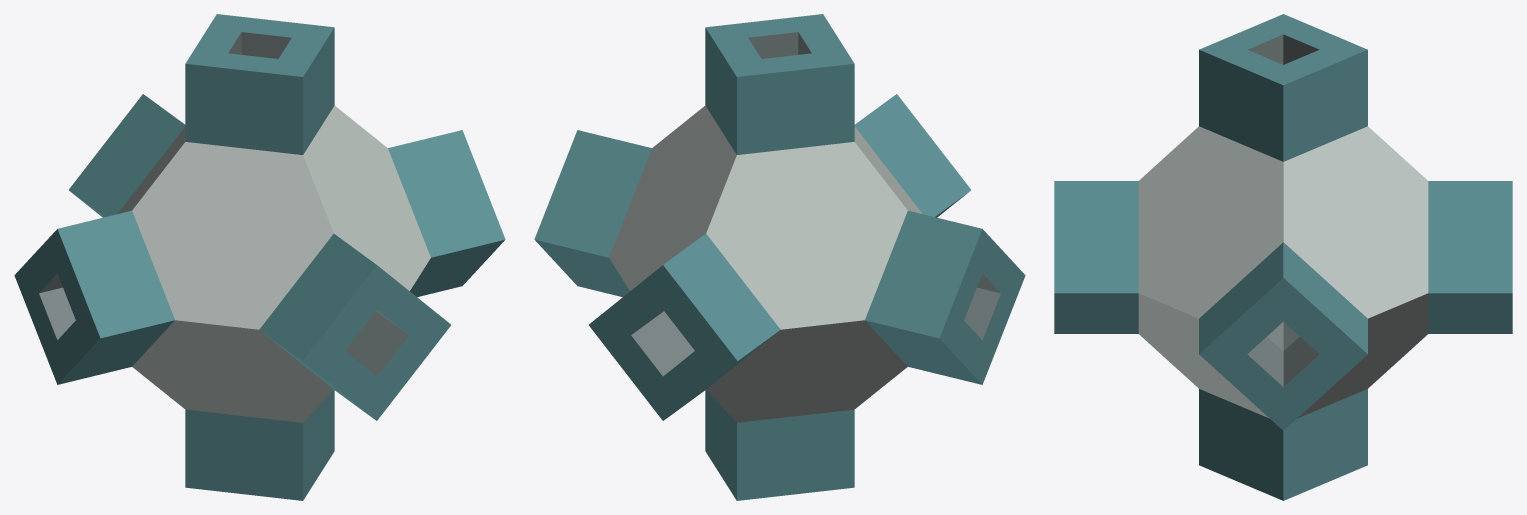
3 views of the same model, side by side, from view 1: azimuth 30°, elevation 25°; view 2: azimuth 150°, elevation 25°; view 3: azimuth 270°, elevation 25° (orthographic). The views are drawn at different scales.
Parts seen in each view (by area): view 1: WholeTruncatedHollowHubAndSixIntegralSquareSockets; view 2: WholeTruncatedHollowHubAndSixIntegralSquareSockets; view 3: WholeTruncatedHollowHubAndSixIntegralSquareSockets.
Boxes of the visible parts, x1,y1,x2,y2 form: WholeTruncatedHollowHubAndSixIntegralSquareSockets: (14, 14, 505, 500); WholeTruncatedHollowHubAndSixIntegralSquareSockets: (534, 14, 1025, 500); WholeTruncatedHollowHubAndSixIntegralSquareSockets: (1054, 14, 1512, 500).
Size of the model in its own units: 0.665 by 0.665 by 0.665.
